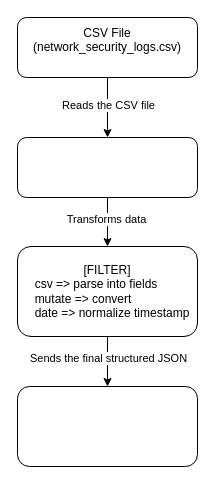
Some shapes in this 215 by 484 pixel diagram are drawn without their labels. Each missing label, with the centre of its shape:
[INPUT] file plugin: the point at 107,167
[OUTPUT] elasticsearch => index as JSON stdout => debug output: the point at 107,426
